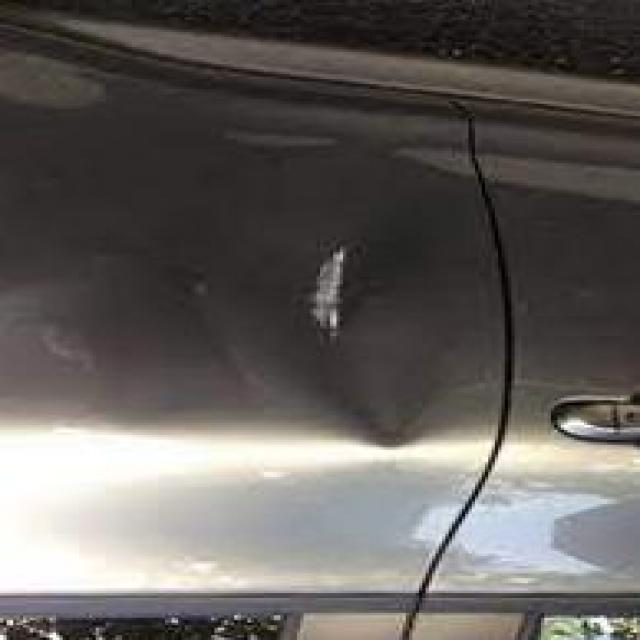dent: (252, 165, 510, 477)
